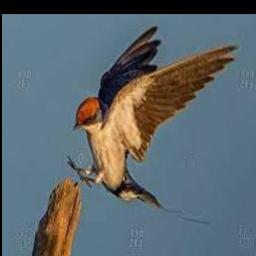Swallow: (67, 25, 242, 225)
